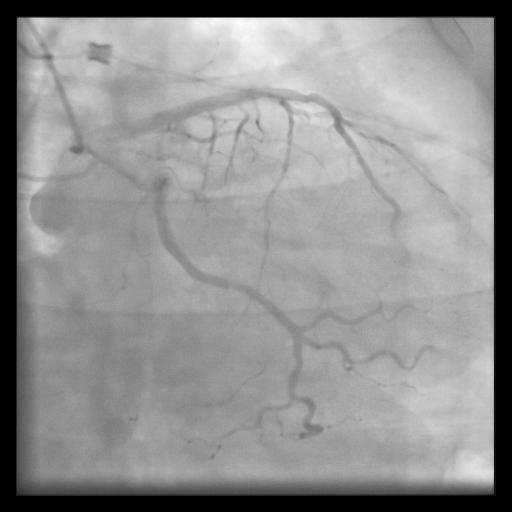Stenosis: (225, 276, 243, 292)
